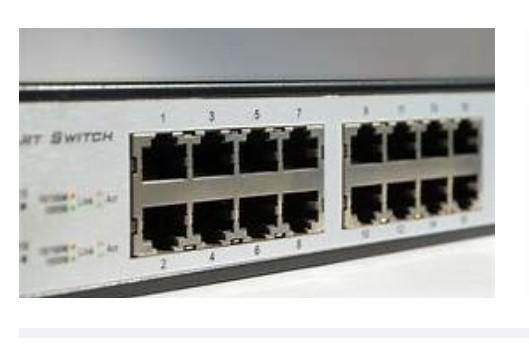NetworkSwitch: (18, 28, 495, 299)
